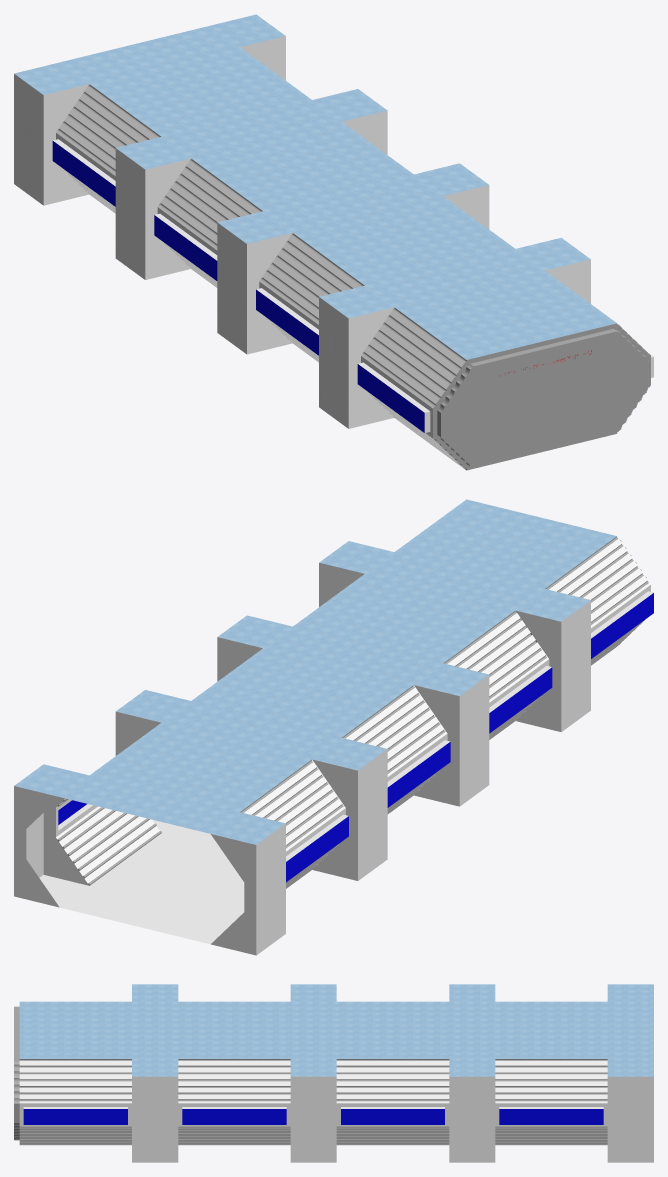
3 views of the same model, one above another, from view 1: azimuth 30°, elevation 25°; view 2: azimuth 150°, elevation 25°; view 3: azimuth 270°, elevation 25° (orthographic). The views are drawn at different scales.
Parts seen in each view (by area): view 1: Tunel-v1; view 2: Tunel-v1; view 3: Tunel-v1.
Boxes of the visible parts, left/top/right/bottom form: Tunel-v1: left=14, top=14, right=653, bottom=470; Tunel-v1: left=14, top=499, right=653, bottom=955; Tunel-v1: left=14, top=984, right=653, bottom=1162.
Bounding box in the file's own units: 14.88 × 6.48 × 43.62.
Materials: 10 (1 with a texture image).
